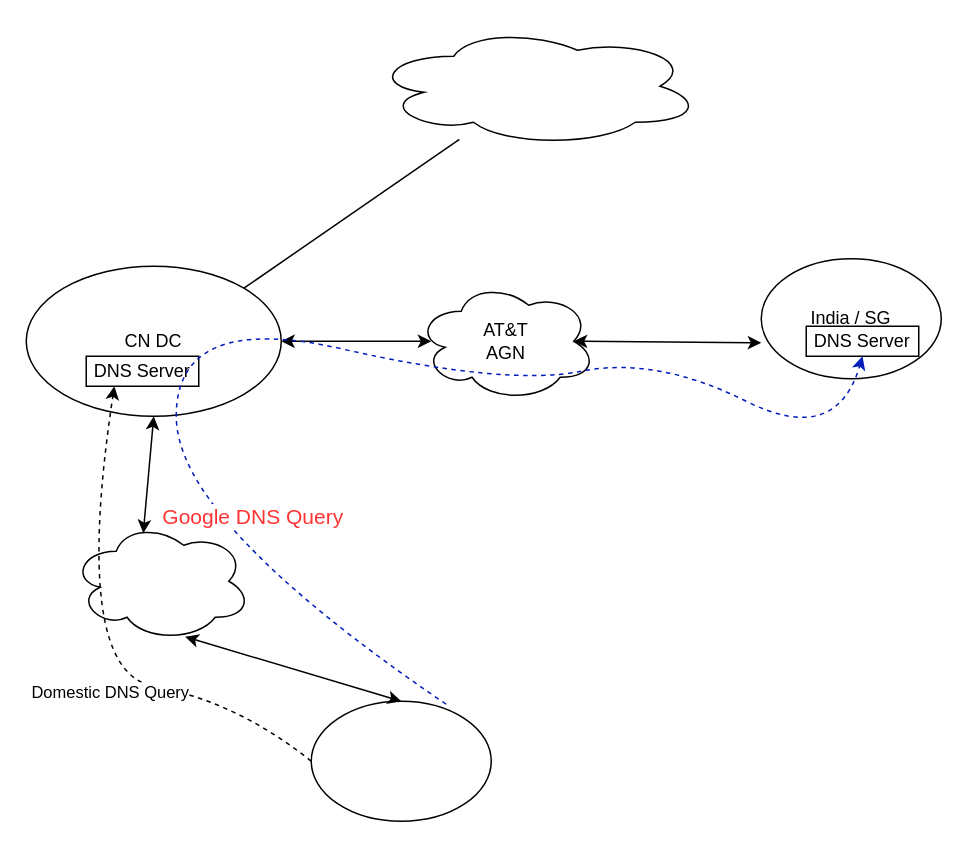
The diagram is 968 pixels wide and 848 high, and some of its shapes have lost their labels. The centre of each missing label's shape, as x and y in pixels:
Internet: pixel 535 85
MPLS: pixel 160 580
sites: pixel 400 760
